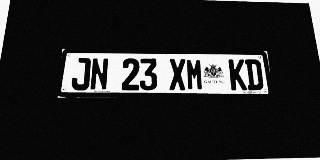2: (122, 58, 139, 90)
3: (140, 58, 157, 90)
D: (245, 59, 264, 90)
J: (71, 58, 91, 90)
K: (228, 59, 247, 90)
M: (186, 59, 204, 90)
N: (90, 58, 109, 90)
X: (169, 59, 186, 90)
